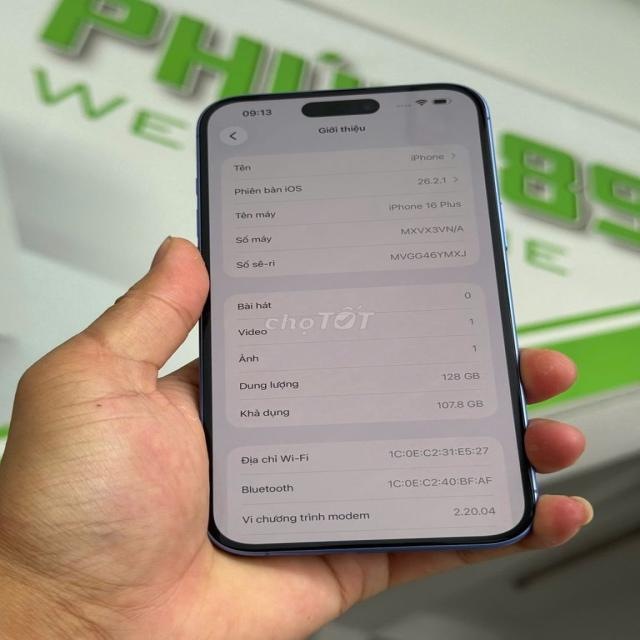gen_16: (198, 83, 537, 555)
